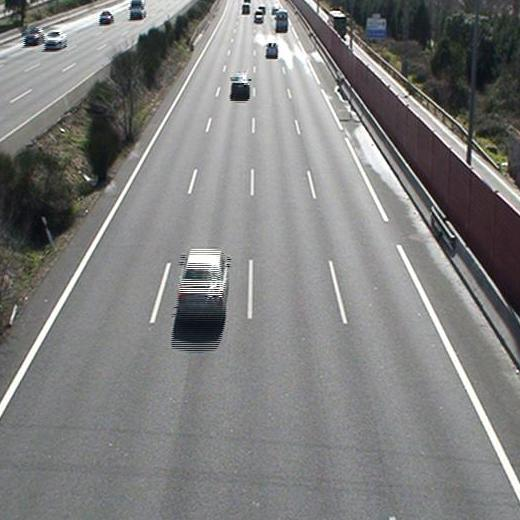car: (177, 249, 228, 322), (231, 74, 250, 99), (264, 42, 279, 58)
van: (276, 10, 289, 33)
